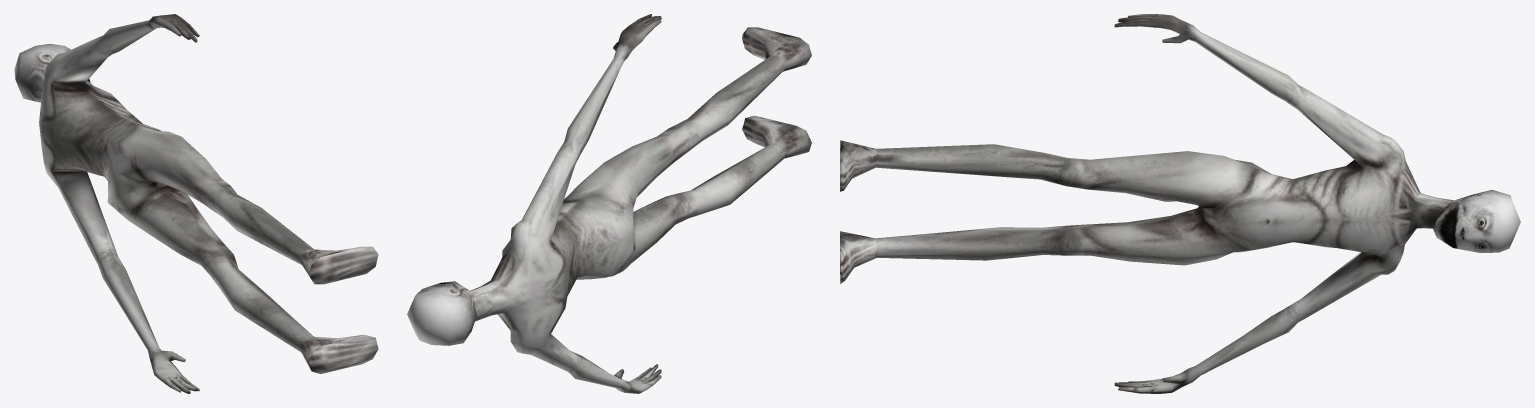
File: clean_марионетка.glb
The picture shows the model from 3 angles, left to right: view 1: azimuth 30°, elevation 25°; view 2: azimuth 150°, elevation 25°; view 3: azimuth 270°, elevation 25°; orthographic projection. The views are drawn at different scales.
Visible parts, largest first — view 1: Character_Monster; view 2: Character_Monster; view 3: Character_Monster.
Boxes of the visible parts, x1=… form: Character_Monster: x1=14, y1=14, x2=378, y2=393; Character_Monster: x1=407, y1=14, x2=811, y2=393; Character_Monster: x1=840, y1=14, x2=1520, y2=393.
Bounding box in the file's own units: 97.18 × 358 × 593.
Materials: 1 (1 with a texture image).
